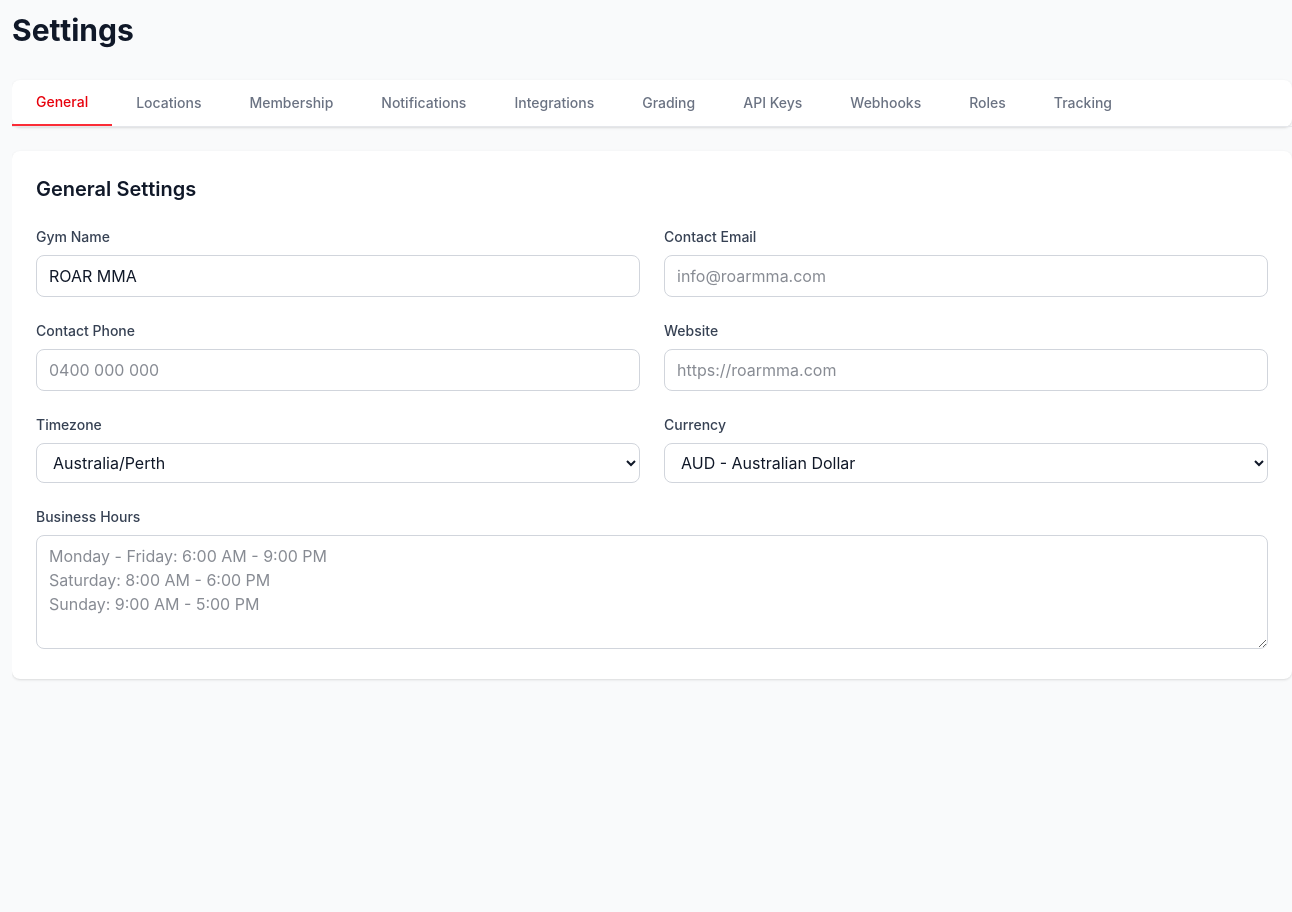
Settings Page › switches to Membership tab and shows settings
Click the button "Membership".
click(291, 103)  # box [225,80,357,126]
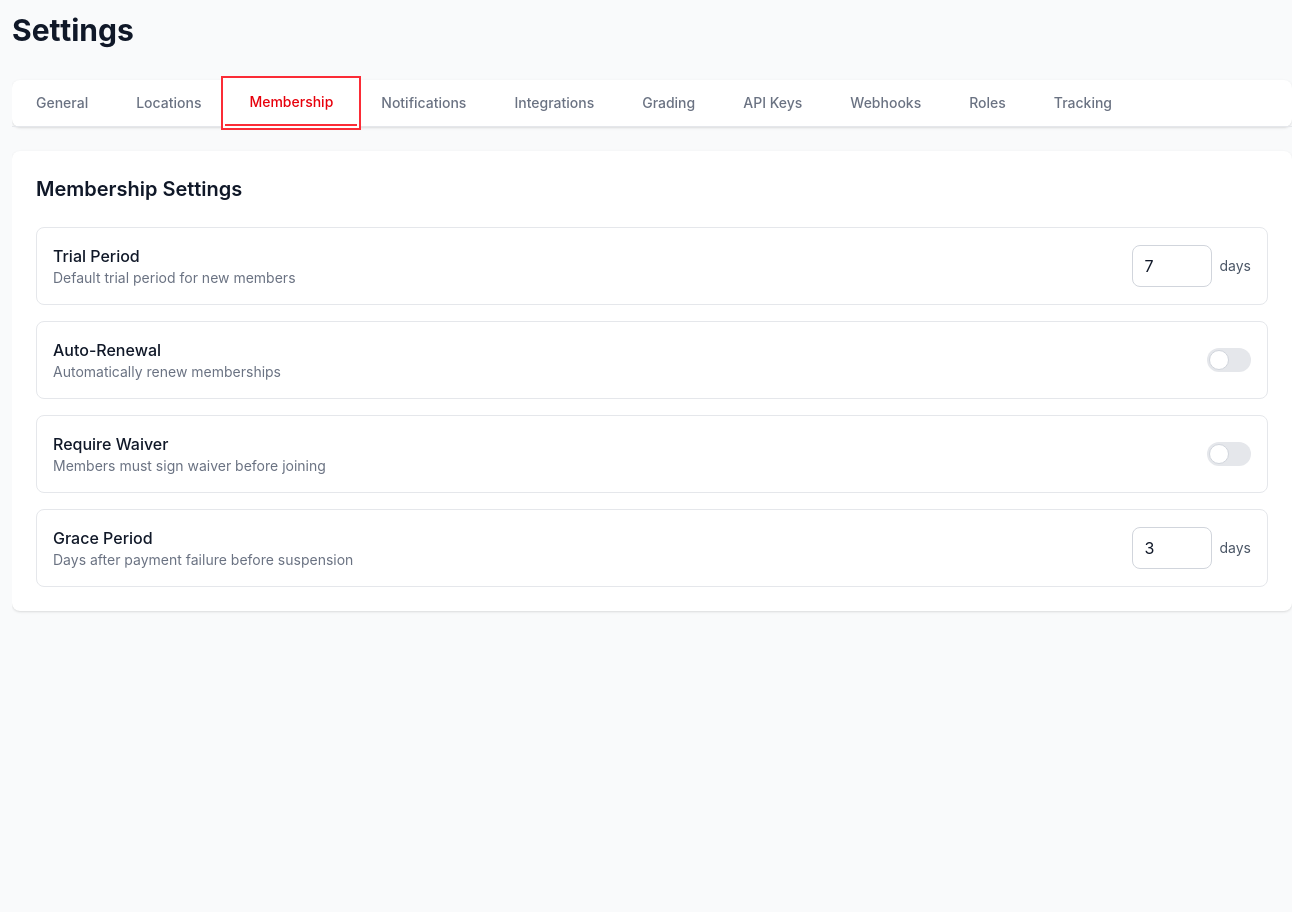
Check: the heading "Trial Period" is shown, box [53,246,140,266]
